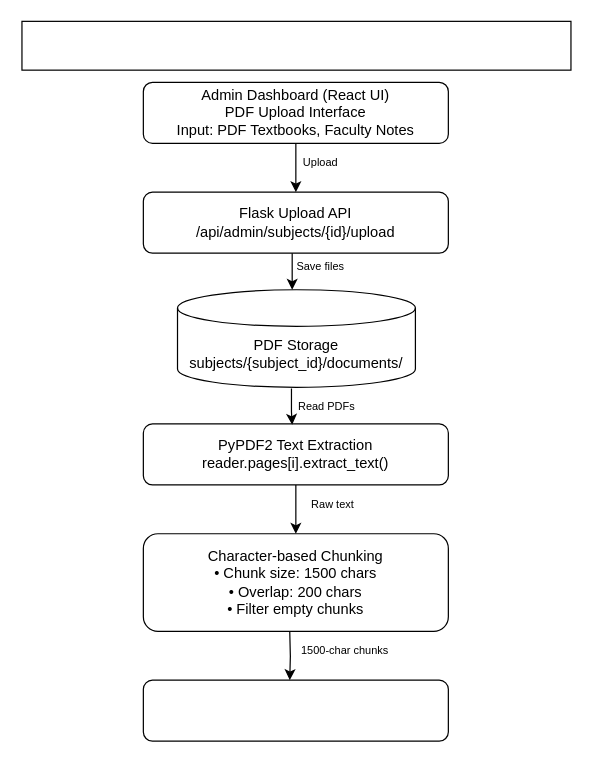
The diagram is 592 pixels wide and 763 high, and some of its shapes have lost their labels. The centre of each missing label's shape, as x and y in pixels:
MODULE 1: ACADEMIC CONTENT INGESTION & PREPROCESSING: pixel 296 45
Output: Text Chunks Array (Ready for embedding): pixel 295 710
